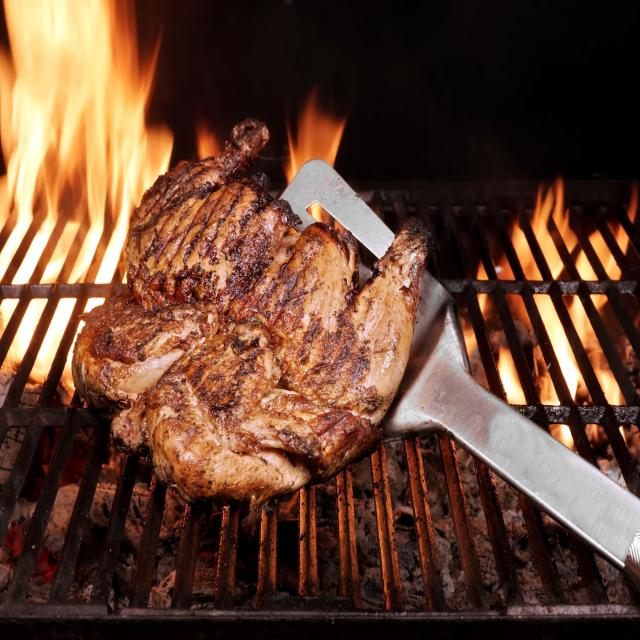carne de res: (59, 111, 438, 540)
